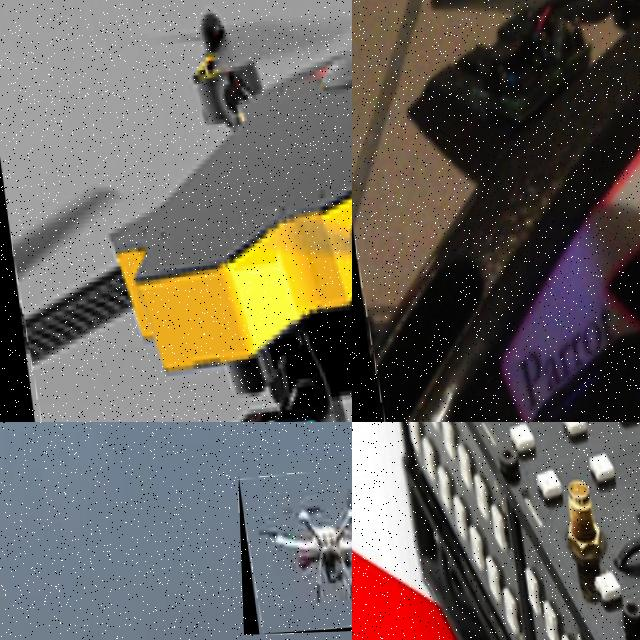0: (238, 469, 352, 634)
drone: (0, 0, 352, 422), (352, 0, 640, 422), (352, 422, 640, 640)
